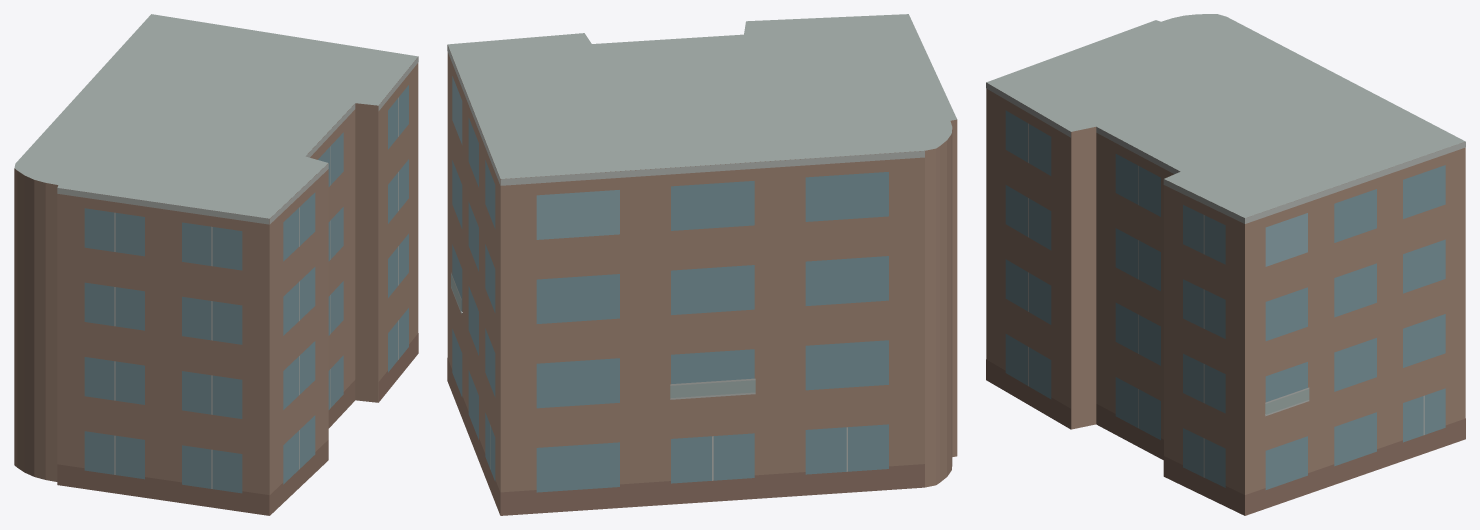
File: survey-upis-32761372.glb
The picture shows the model from 3 angles, left to right: view 1: azimuth 30°, elevation 25°; view 2: azimuth 150°, elevation 25°; view 3: azimuth 270°, elevation 25°; orthographic projection. The views are drawn at different scales.
Parts seen in each view (by area): view 1: survey-upis-32761372.tmp; view 2: survey-upis-32761372.tmp; view 3: survey-upis-32761372.tmp.
Boxes of the visible parts, <box> form: survey-upis-32761372.tmp: <box>14,14,418,515</box>; survey-upis-32761372.tmp: <box>447,14,957,515</box>; survey-upis-32761372.tmp: <box>986,14,1465,515</box>.
Bounding box in the file's own units: 17.95 × 12.2 × 17.82.
